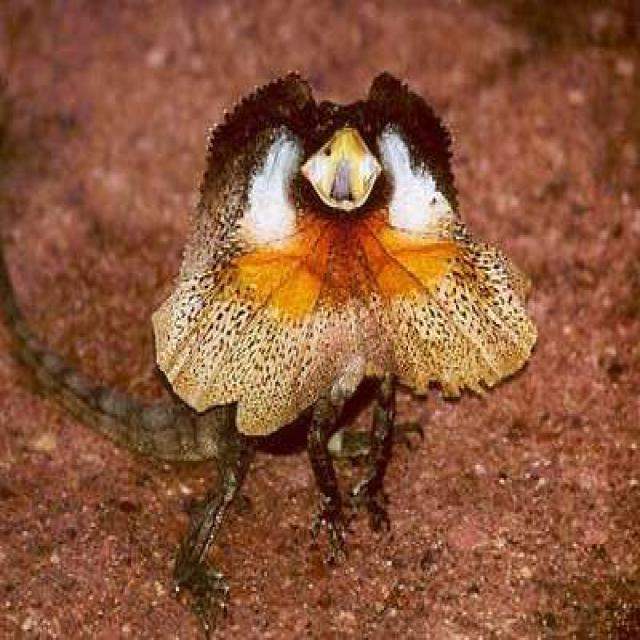Lizard: (2, 61, 534, 572)
